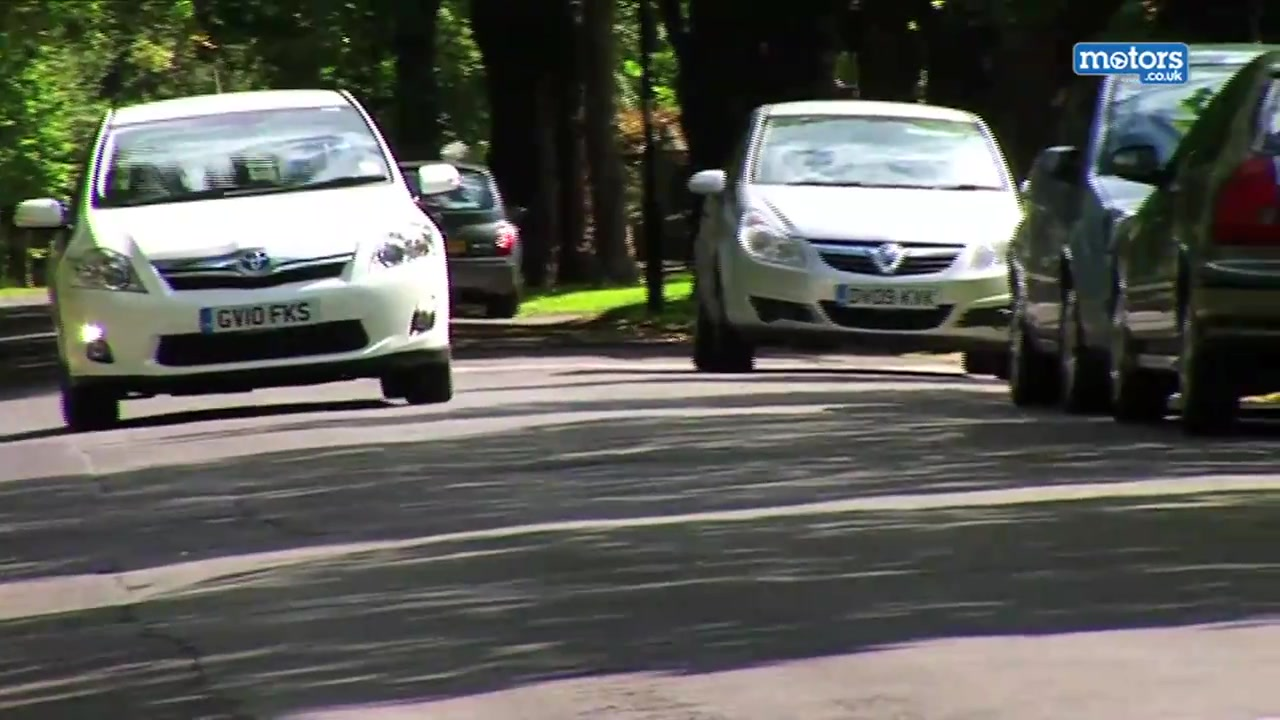car: (18, 91, 463, 426), (1009, 38, 1280, 413), (684, 94, 1037, 379), (1109, 49, 1280, 424), (394, 160, 529, 322)
